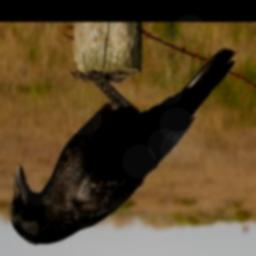Crow: (10, 48, 239, 245)
